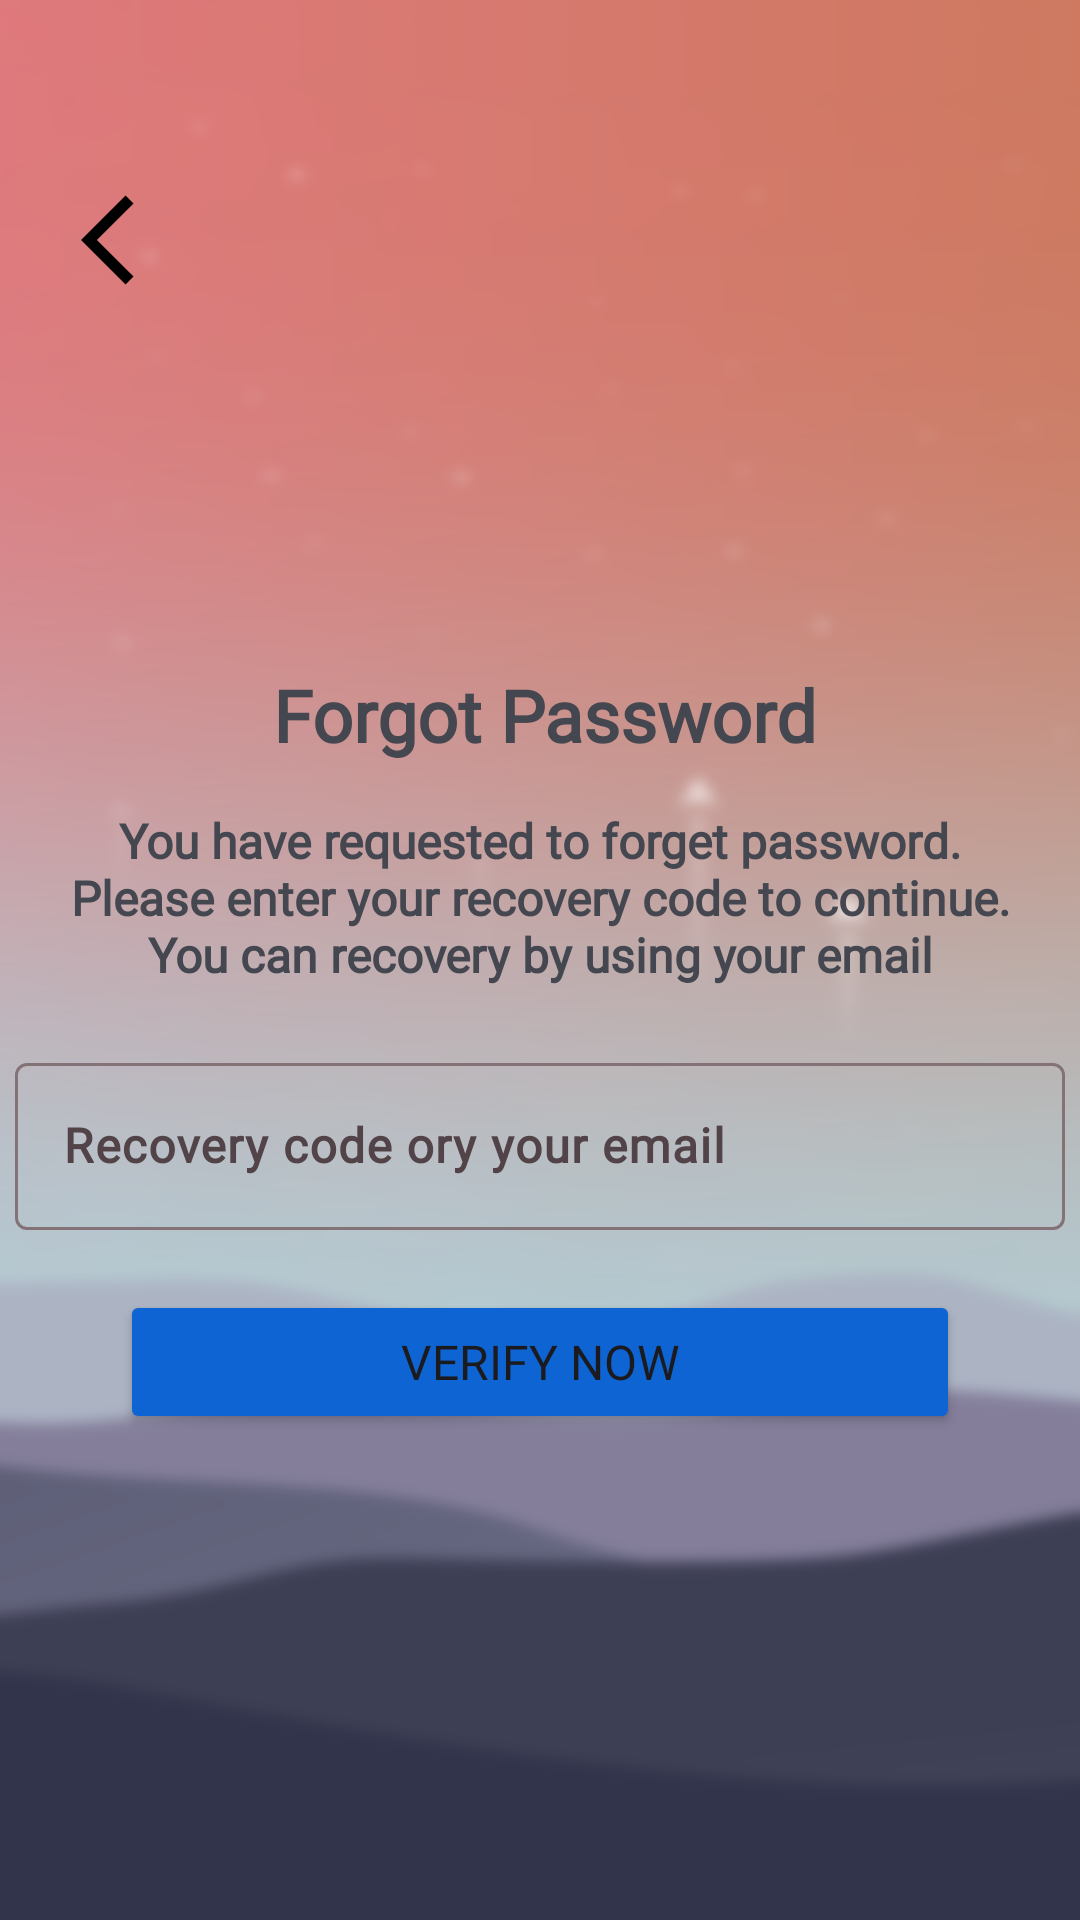

Named icons in this screenshot (1080 × 1920) and their bounding boxes, [left=x1, top=y1, right=x2, bottom=y2]:
arrow back: [left=81, top=195, right=134, bottom=285]
